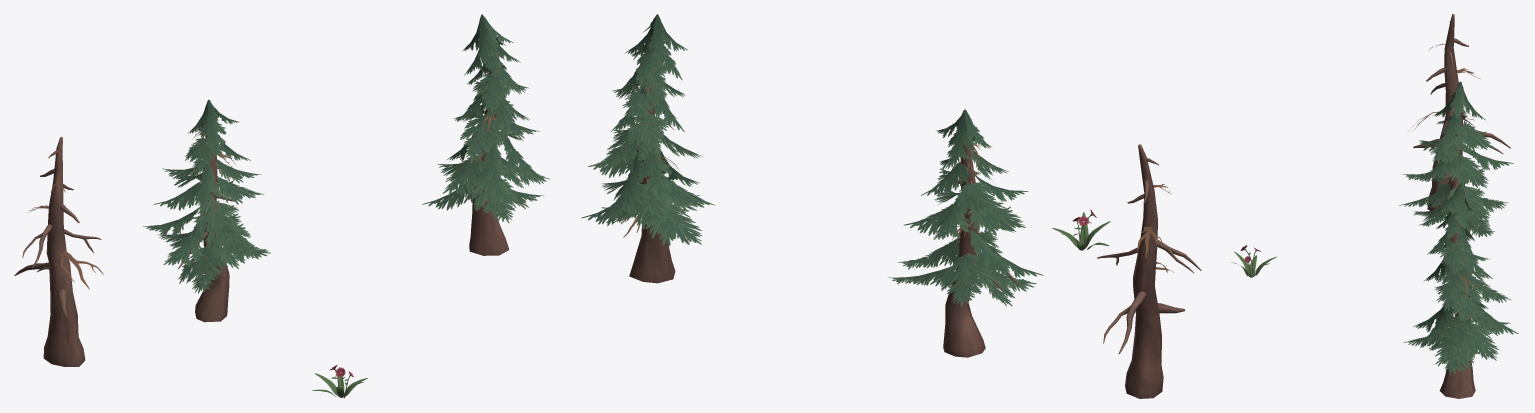
Rendered from dressing-kit.glb.
The picture shows the model from 3 angles, left to right: view 1: azimuth 30°, elevation 25°; view 2: azimuth 150°, elevation 25°; view 3: azimuth 270°, elevation 25°; orthographic projection. The views are drawn at different scales.
Visible parts, largest first — view 1: Pine_Leaves_01, Pine_Leaves_04, Pine_Trunk_No_Leaves_01, Pine_Trunk_04, Pine_Trunk_01, Red_Flower_01; view 2: Pine_Leaves_01, Pine_Leaves_04, Pine_Trunk_No_Leaves_01, Pine_Trunk_04, Pine_Trunk_01, Red_Flower_01; view 3: Pine_Leaves_01, Pine_Leaves_04, Pine_Trunk_No_Leaves_01, Pine_Trunk_01, Red_Flower_01.
Part boxes in pixels (x1=…): Pine_Leaves_01: x1=422, y1=14, x2=550, y2=223; Pine_Leaves_04: x1=143, y1=99, x2=270, y2=293; Pine_Trunk_No_Leaves_01: x1=14, y1=137, x2=103, y2=366; Pine_Trunk_04: x1=176, y1=103, x2=234, y2=322; Pine_Trunk_01: x1=469, y1=56, x2=509, y2=255; Red_Flower_01: x1=312, y1=365, x2=367, y2=398; Pine_Leaves_01: x1=581, y1=14, x2=715, y2=245; Pine_Leaves_04: x1=888, y1=109, x2=1043, y2=306; Pine_Trunk_No_Leaves_01: x1=1097, y1=144, x2=1201, y2=398; Pine_Trunk_04: x1=943, y1=112, x2=1019, y2=357; Pine_Trunk_01: x1=629, y1=16, x2=675, y2=283; Red_Flower_01: x1=1052, y1=209, x2=1110, y2=250; Pine_Leaves_01: x1=1403, y1=183, x2=1518, y2=374; Pine_Leaves_04: x1=1399, y1=81, x2=1513, y2=237; Pine_Trunk_No_Leaves_01: x1=1408, y1=14, x2=1510, y2=210; Pine_Trunk_01: x1=1439, y1=214, x2=1475, y2=398; Red_Flower_01: x1=1231, y1=245, x2=1276, y2=277.
Bounding box in the file's own units: 9.49 × 4.04 × 5.12.
Materials: 3 (3 with a texture image).
